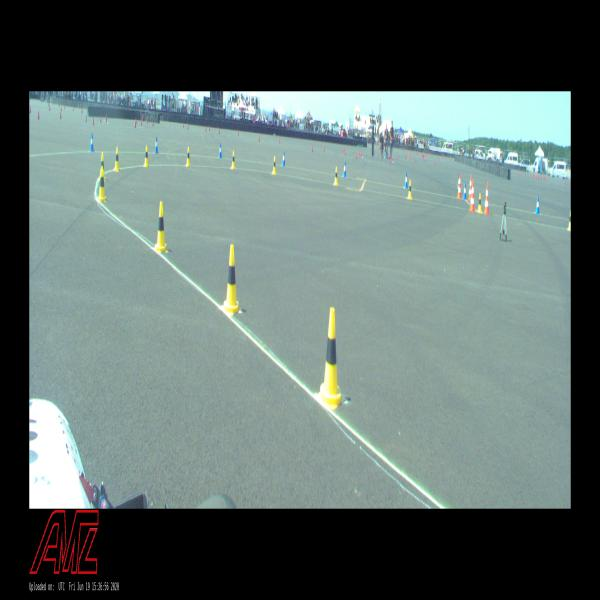blue_cone: (535, 197, 540, 214), (89, 134, 94, 151), (404, 172, 408, 189), (462, 183, 466, 200), (154, 137, 158, 153), (219, 143, 222, 158), (343, 162, 346, 176), (282, 152, 285, 166)
large_orange_cone: (469, 180, 475, 212), (484, 182, 490, 214), (457, 173, 462, 199), (468, 174, 471, 200)
yellow_cone: (316, 307, 345, 411), (221, 244, 241, 316), (153, 202, 168, 252), (96, 166, 106, 202), (113, 146, 121, 172), (99, 152, 106, 181), (144, 145, 149, 167), (477, 192, 482, 214), (231, 151, 236, 169), (408, 179, 412, 199), (186, 147, 190, 166), (334, 167, 338, 186), (567, 211, 571, 230), (272, 156, 276, 174)
